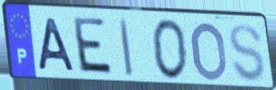A: (37, 16, 78, 74)
E: (72, 15, 116, 79)
I: (118, 17, 135, 80)
O: (150, 17, 190, 82), (190, 20, 229, 83)
S: (228, 22, 267, 85)
